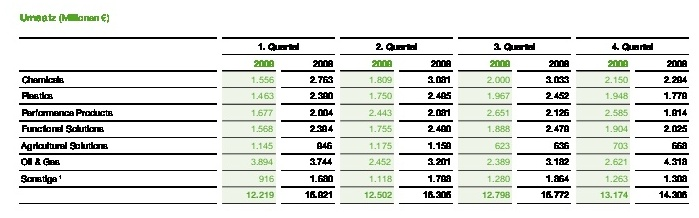table: (0, 0, 699, 218)
